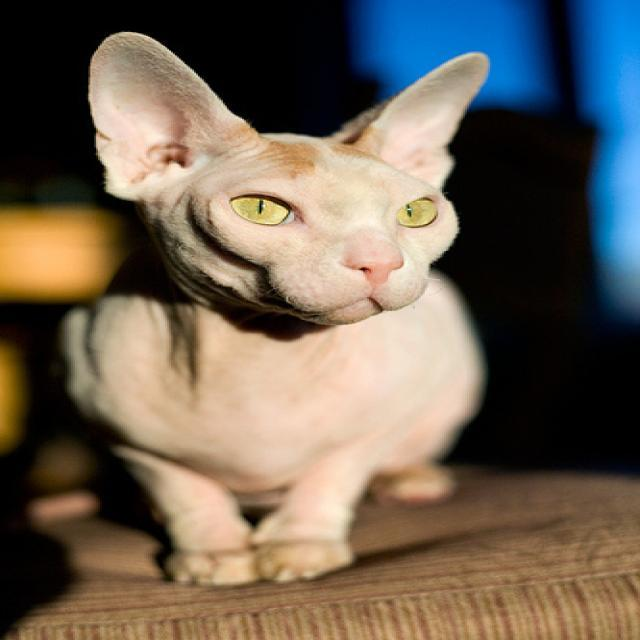Sphynx: (79, 26, 493, 331)
